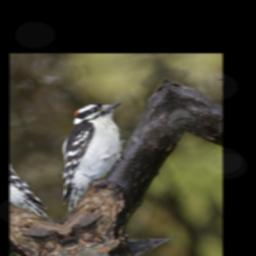Woodpecker: (31, 97, 158, 215)
